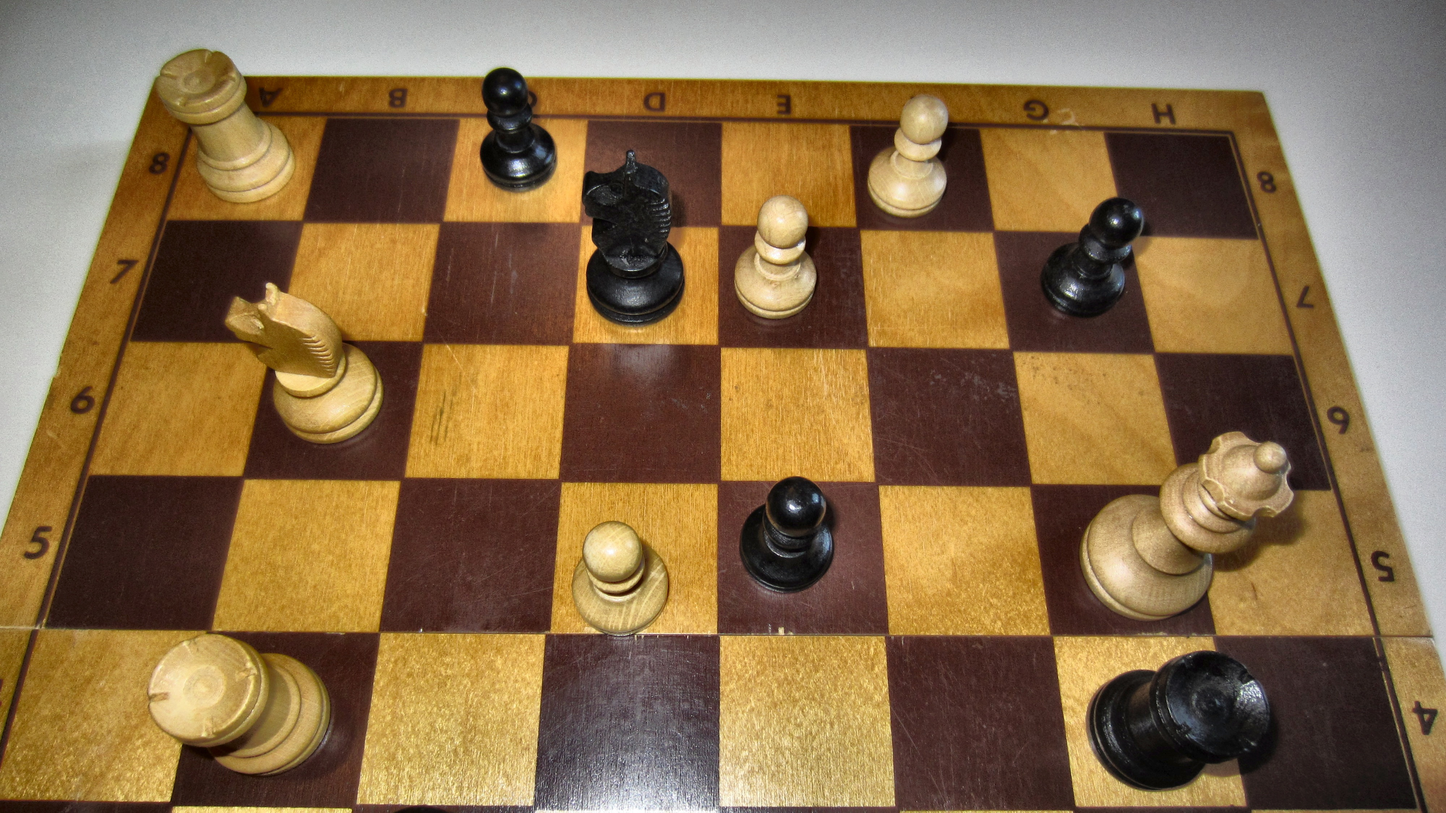black-knight: (577, 148, 688, 330)
black-pawn: (1039, 196, 1145, 320), (738, 474, 835, 596), (478, 66, 557, 193)
black-rook: (1084, 648, 1272, 793)
white-knight: (222, 282, 386, 445)
white-pawn: (569, 518, 670, 638), (732, 195, 819, 320), (865, 92, 950, 217)
white-queen: (1077, 429, 1296, 622)
white-rook: (145, 631, 331, 778), (153, 47, 294, 204)
